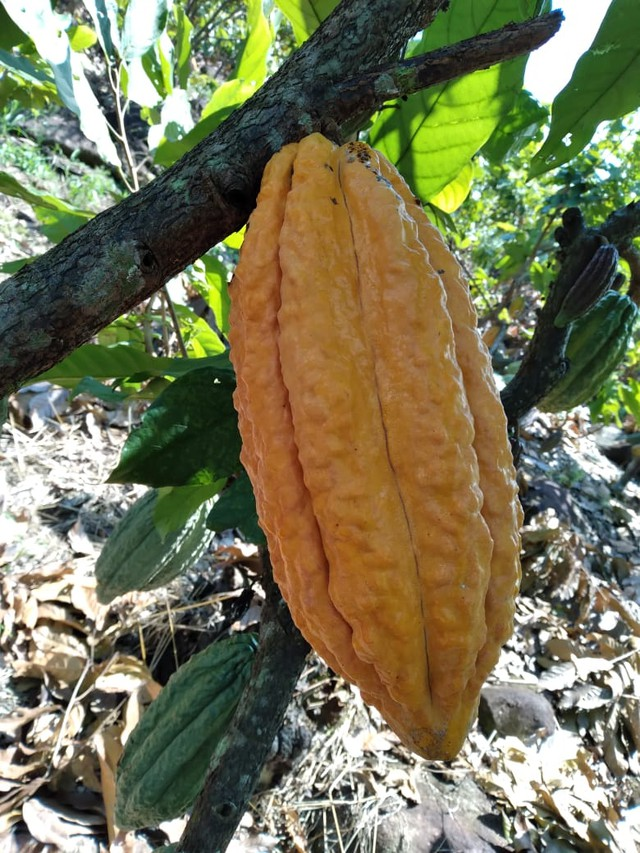Health: (221, 126, 537, 770)
